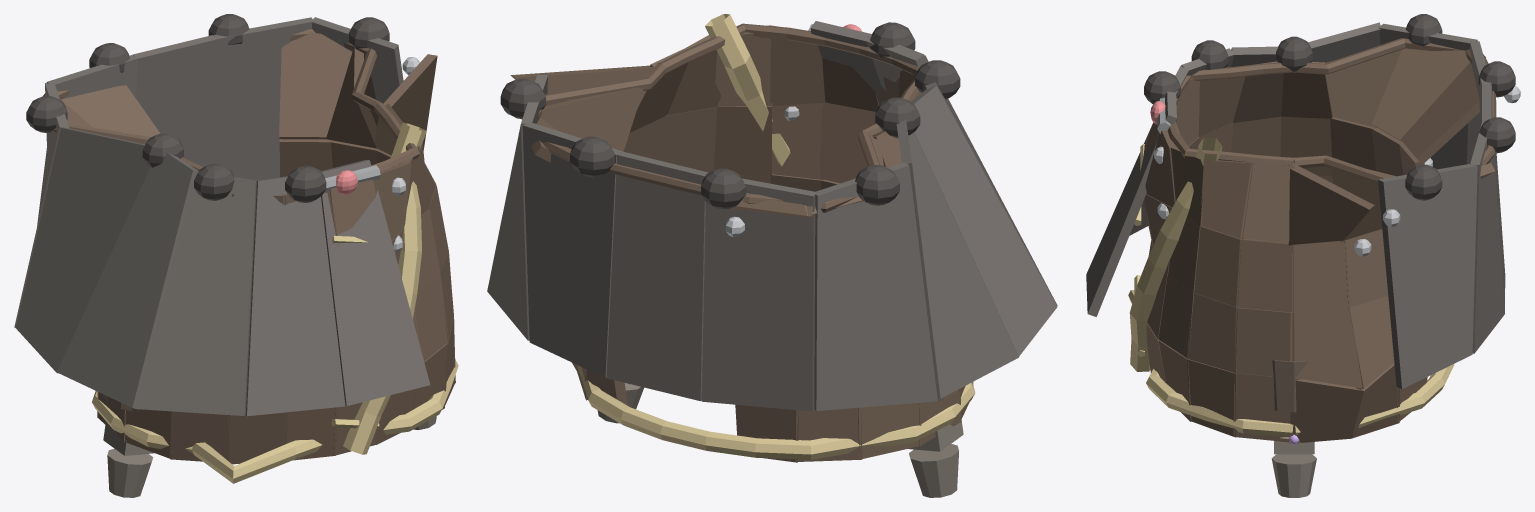
Rendered from rogue_kit.glb.
The picture shows the model from 3 angles, left to right: view 1: azimuth 30°, elevation 25°; view 2: azimuth 150°, elevation 25°; view 3: azimuth 270°, elevation 25°; orthographic projection. The views are drawn at different scales.
Parts seen in each view (by area): view 1: Acc_Cloak_cloth_rogue, Armour_Jerkin_leather_rogue, Armour_Jerkin_trim_rogue, Acc_Cloak_dark_rogue, Acc_GloveR_cloth_rogue, Armour_Jerkin_metal_rogue, Acc_Cloak_metal_rogue; view 2: Acc_Cloak_cloth_rogue, Armour_Jerkin_leather_rogue, Armour_Jerkin_trim_rogue, Acc_Cloak_dark_rogue, Acc_GloveR_cloth_rogue; view 3: Armour_Jerkin_leather_rogue, Acc_Cloak_cloth_rogue, Armour_Jerkin_trim_rogue, Acc_Cloak_dark_rogue, Acc_GloveL_cloth_rogue, Acc_GloveL_leather_rogue, Armour_Jerkin_metal_rogue.
Boxes of the visible parts, bbox=[...] form: Acc_Cloak_cloth_rogue: bbox=[14, 17, 430, 416]; Armour_Jerkin_leather_rogue: bbox=[43, 29, 455, 464]; Armour_Jerkin_trim_rogue: bbox=[92, 123, 458, 483]; Acc_Cloak_dark_rogue: bbox=[26, 14, 389, 202]; Acc_GloveR_cloth_rogue: bbox=[103, 406, 154, 497]; Armour_Jerkin_metal_rogue: bbox=[391, 57, 419, 252]; Acc_Cloak_metal_rogue: bbox=[324, 165, 380, 192]; Acc_Cloak_cloth_rogue: bbox=[487, 21, 1057, 411]; Armour_Jerkin_leather_rogue: bbox=[510, 23, 973, 462]; Armour_Jerkin_trim_rogue: bbox=[577, 14, 975, 459]; Acc_Cloak_dark_rogue: bbox=[500, 22, 960, 209]; Acc_GloveR_cloth_rogue: bbox=[908, 414, 963, 497]; Armour_Jerkin_leather_rogue: bbox=[1143, 38, 1496, 443]; Acc_Cloak_cloth_rogue: bbox=[1086, 22, 1505, 388]; Armour_Jerkin_trim_rogue: bbox=[1128, 137, 1454, 437]; Acc_Cloak_dark_rogue: bbox=[1144, 14, 1515, 200]; Acc_GloveL_cloth_rogue: bbox=[1271, 441, 1316, 497]; Acc_GloveL_leather_rogue: bbox=[1272, 360, 1308, 412]; Armour_Jerkin_metal_rogue: bbox=[1154, 86, 1520, 256].
Size of the model in its own units: 1.08 by 0.8483 by 0.9921.
